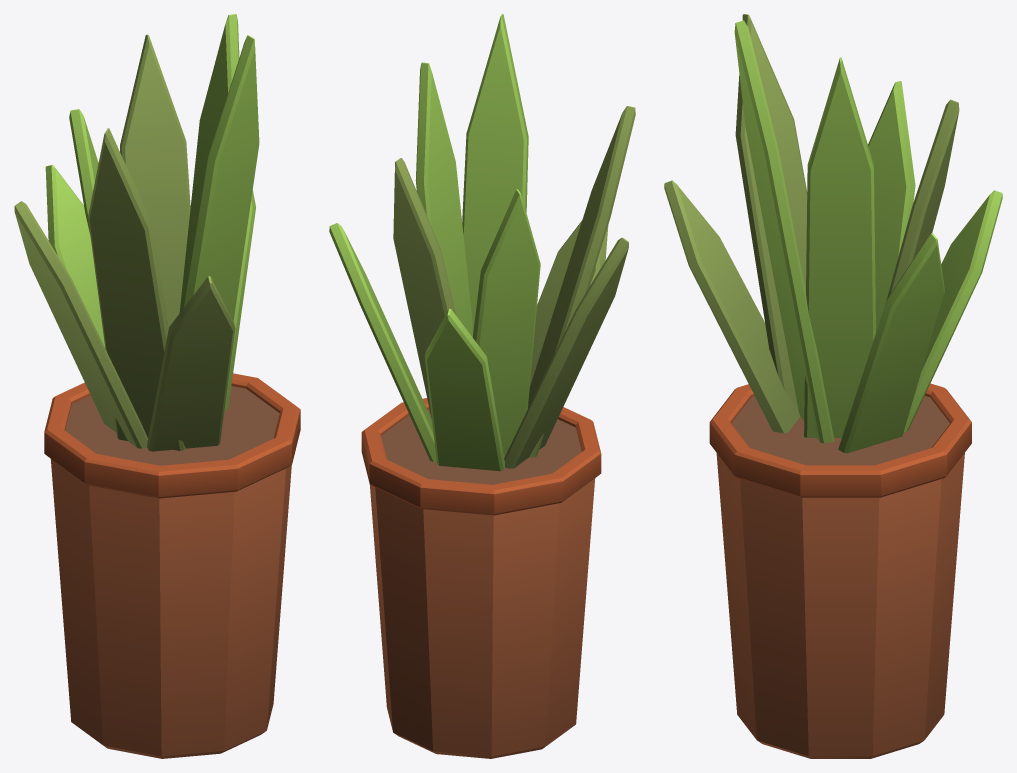
File: Plant_Tall.fbx
3 renders of one model, left to right at view 1: azimuth 30°, elevation 25°; view 2: azimuth 150°, elevation 25°; view 3: azimuth 270°, elevation 25°, orthographic. The views are drawn at different scales.
Visible parts, largest first — view 1: Plant_Tall; view 2: Plant_Tall; view 3: Plant_Tall.
Part boxes in pixels (x1,y1,x2,y2): Plant_Tall: (14,14,300,758); Plant_Tall: (329,14,635,758); Plant_Tall: (664,14,1002,758).
Bounding box in the file's own units: 1.92 × 4.8 × 2.07.
1 material, 1 textured.
